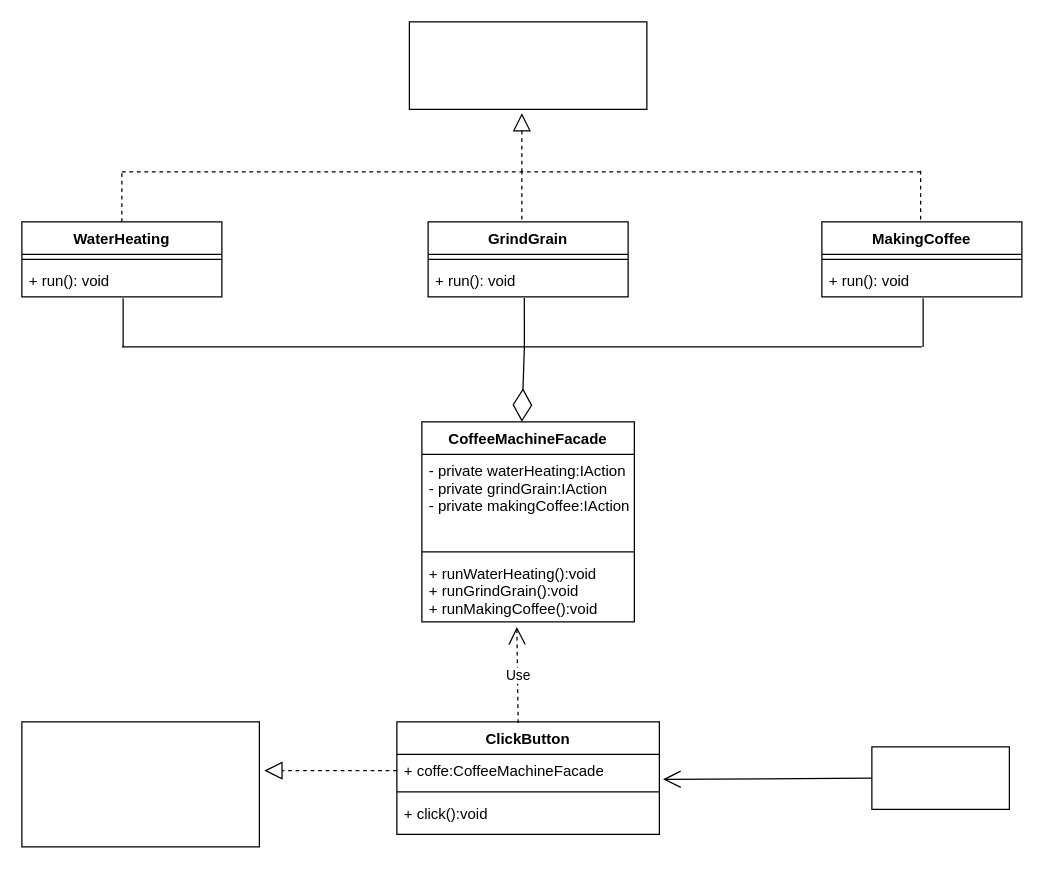
This 1044x869 diagram has some shape labels left out. The centre of each missing label's shape, as x and y in pixels:
"<<Interface>> IAction + run():void" belongs at [527,65].
"<<Interface>> IClickButton + coffe:CoffeeMachineFasade + click():void" belongs at [140,784].
"ConcreteProduct" belongs at [940,777].
